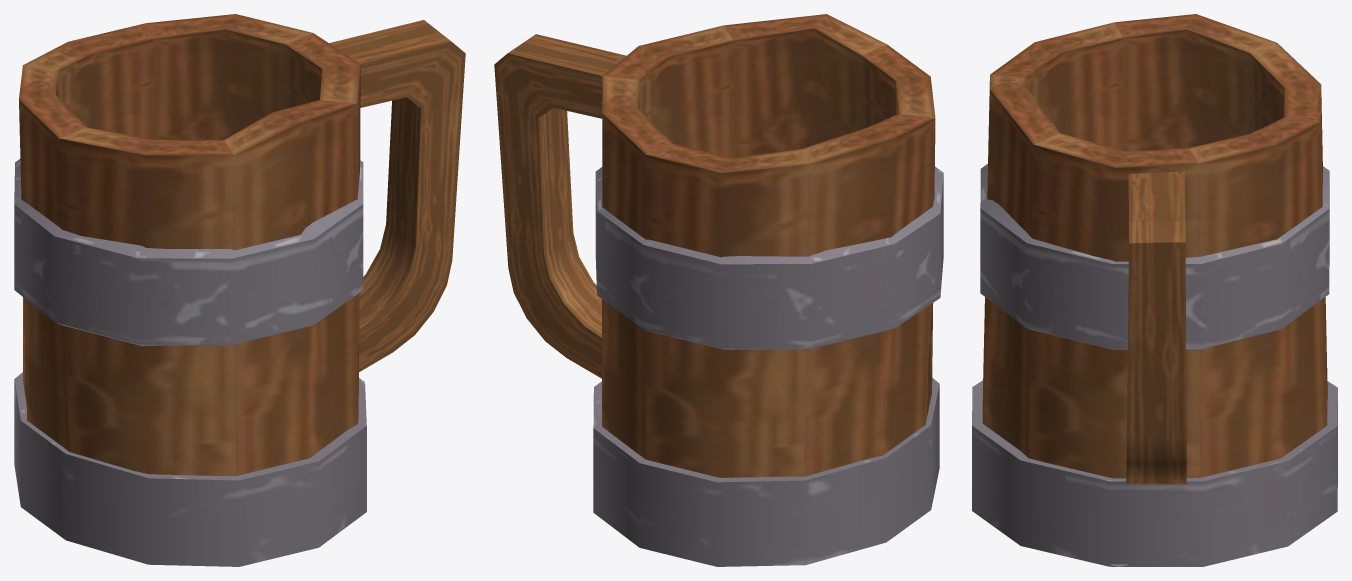
Rendered from Mug.glb.
3 renders of one model, left to right at view 1: azimuth 30°, elevation 25°; view 2: azimuth 150°, elevation 25°; view 3: azimuth 270°, elevation 25°, orthographic. The views are drawn at different scales.
Visible parts, largest first — view 1: Mug; view 2: Mug; view 3: Mug.
Part boxes in pixels (box(x1,y1,x2,y2)): Mug: box(14, 14, 465, 566); Mug: box(494, 14, 943, 566); Mug: box(972, 14, 1337, 566).
Size of the model in its own units: 0.1921 by 0.1839 by 0.1468.
Materials: 2 (2 with a texture image).
